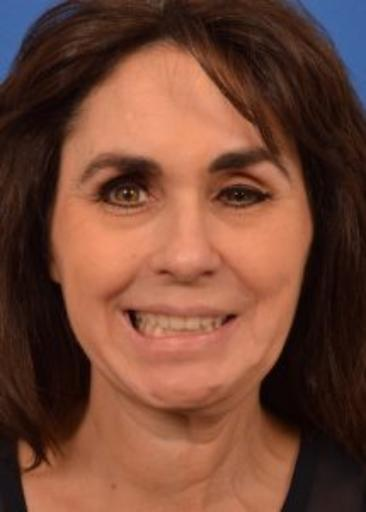left_eye: (216, 183, 274, 212)
left_lip_corner: (224, 309, 244, 327)
right_eye: (101, 180, 157, 207)
right_lip_corner: (118, 305, 135, 320)
